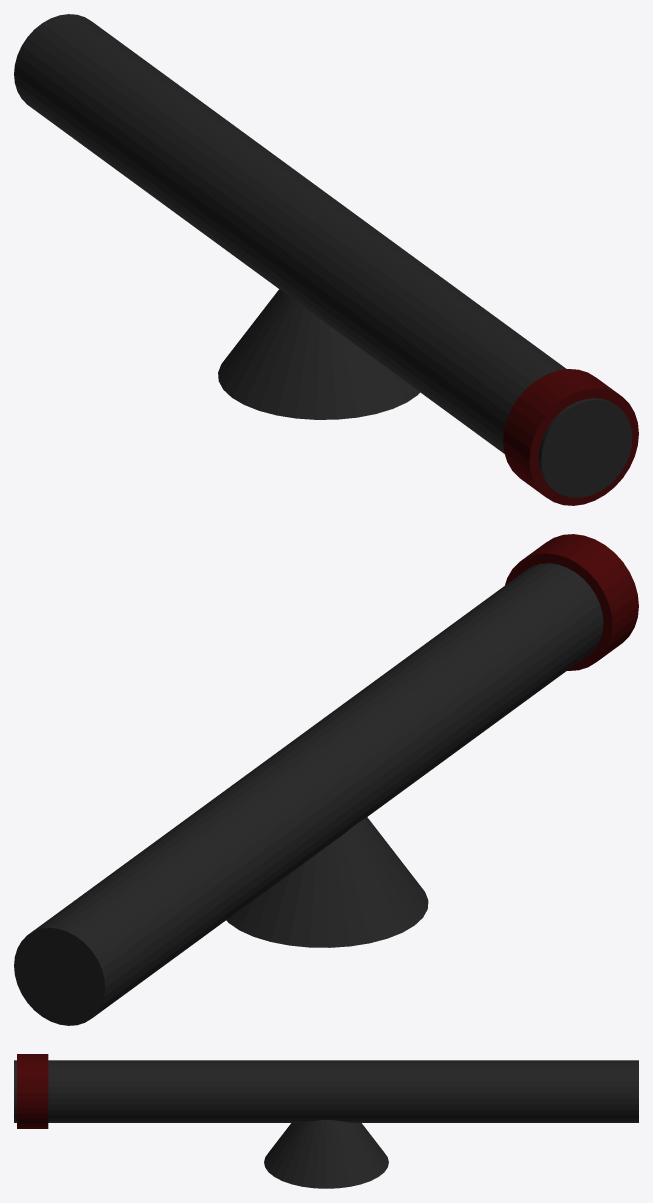
Rendered from gun.obj.
The picture shows the model from 3 angles, top to bottom: view 1: azimuth 30°, elevation 25°; view 2: azimuth 150°, elevation 25°; view 3: azimuth 270°, elevation 25°; orthographic projection. The views are drawn at different scales.
Visible parts, largest first — view 1: 円柱, 円錐, 円柱.001; view 2: 円柱, 円錐, 円柱.001; view 3: 円柱, 円錐, 円柱.001.
Boxes of the visible parts, box(x1,y1,x2,y2) form: 円柱: box(14, 14, 632, 497); 円錐: box(218, 289, 419, 419); 円柱.001: box(503, 369, 638, 505); 円柱: box(14, 563, 603, 1025); 円錐: box(226, 817, 428, 947); 円柱.001: box(505, 534, 638, 670); 円柱: box(14, 1060, 638, 1122); 円錐: box(264, 1120, 388, 1188); 円柱.001: box(17, 1054, 48, 1128).
Size of the model in its own units: 12 by 11.1 by 60.
